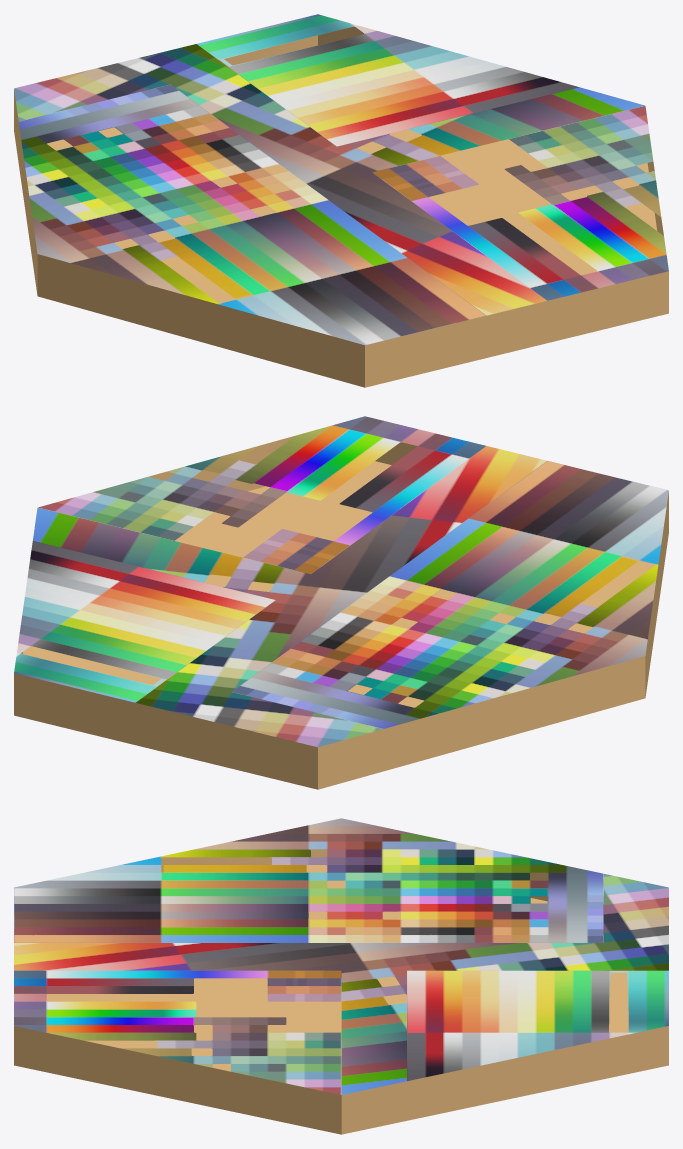
The model's file is Village1.fbx.
3 views of the same model, one above another, from view 1: azimuth 30°, elevation 25°; view 2: azimuth 150°, elevation 25°; view 3: azimuth 270°, elevation 25° (orthographic). The views are drawn at different scales.
Visible parts, largest first — view 1: Village1; view 2: Village1; view 3: Village1.
Boxes of the visible parts, x1,y1,x2,y2 form: Village1: [14, 14, 668, 387]; Village1: [14, 416, 668, 789]; Village1: [14, 818, 668, 1134].
Bounding box in the file's own units: 1500 × 100 × 1500.
